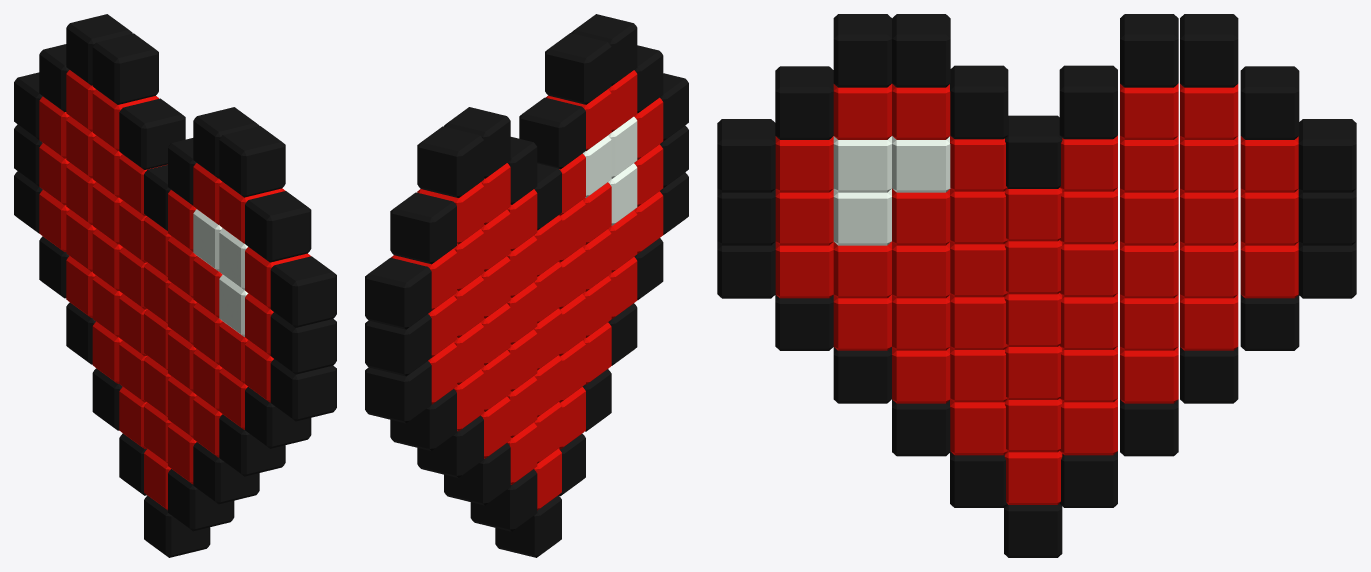
The model's file is heart.glb.
3 views of the same model, side by side, from view 1: azimuth 30°, elevation 25°; view 2: azimuth 150°, elevation 25°; view 3: azimuth 270°, elevation 25° (orthographic). The views are drawn at different scales.
Visible parts, largest first — view 1: Cubo.065, Cubo.056, Cubo.051, Cubo.036, Cubo.011, Cubo.066, Cubo.064, Cubo.031, Cubo.054, Cubo.047, Cubo.016, Cubo (+58 smaller); view 2: Cubo.069, Cubo.061, Cubo.027, Cubo.043, Cubo.020, Cubo.070, Cubo.068, Cubo.032, Cubo.015, Cubo.046, Cubo.059, Cubo (+58 smaller); view 3: Cubo.061, Cubo.011, Cubo.020, Cubo.027, Cubo.065, Cubo.036, Cubo.043, Cubo.051, Cubo.056, Cubo.069, Cubo.006, Cubo.035 (+58 smaller).
Part boxes in pixels (bbox=[...]): Cubo.065: bbox=[270, 256, 336, 327]; Cubo.056: bbox=[245, 191, 311, 262]; Cubo.051: bbox=[219, 126, 285, 197]; Cubo.036: bbox=[92, 33, 158, 104]; Cubo.011: bbox=[119, 98, 185, 169]; Cubo.066: bbox=[270, 359, 336, 421]; Cubo.064: bbox=[270, 312, 336, 374]; Cubo.031: bbox=[193, 442, 259, 504]; Cubo.054: bbox=[219, 414, 285, 476]; Cubo.047: bbox=[245, 387, 311, 448]; Cubo.016: bbox=[168, 469, 234, 531]; Cubo: bbox=[144, 495, 210, 557]; Cubo.069: bbox=[365, 257, 431, 329]; Cubo.061: bbox=[390, 192, 456, 264]; Cubo.027: bbox=[545, 33, 611, 104]; Cubo.043: bbox=[417, 126, 483, 197]; Cubo.020: bbox=[519, 97, 585, 169]; Cubo.070: bbox=[365, 361, 431, 423]; Cubo.068: bbox=[365, 314, 431, 376]; Cubo.032: bbox=[444, 443, 510, 505]; Cubo.015: bbox=[470, 469, 537, 531]; Cubo.046: bbox=[417, 415, 483, 477]; Cubo.059: bbox=[390, 389, 456, 451]; Cubo: bbox=[495, 495, 561, 557]; Cubo.061: bbox=[1240, 66, 1299, 139]; Cubo.011: bbox=[1059, 65, 1117, 139]; Cubo.020: bbox=[950, 65, 1008, 139]; Cubo.027: bbox=[892, 14, 950, 87]; Cubo.065: bbox=[717, 119, 775, 192]; Cubo.036: bbox=[1120, 14, 1178, 87]; Cubo.043: bbox=[1180, 14, 1238, 87]; Cubo.051: bbox=[833, 14, 891, 87]; Cubo.056: bbox=[775, 66, 833, 139]; Cubo.069: bbox=[1298, 119, 1356, 192]; Cubo.006: bbox=[1005, 115, 1062, 188]; Cubo.035: bbox=[1120, 241, 1178, 298].
Size of the model in its own units: 0.552 by 5.45 by 6.03.
